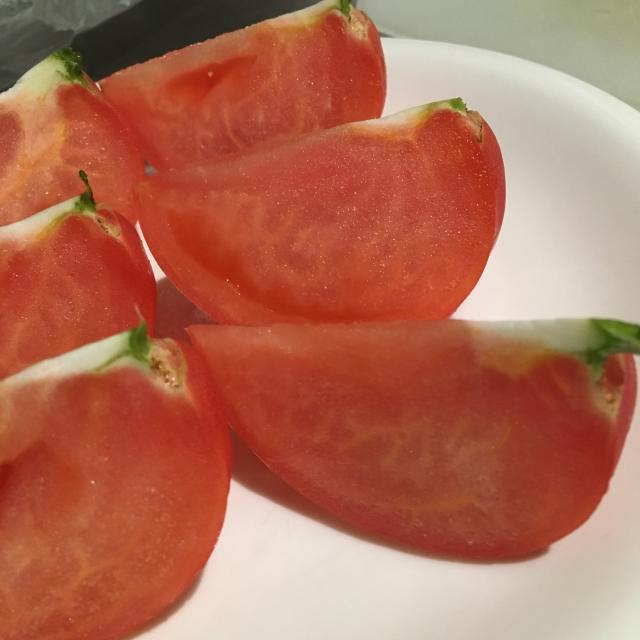Tomato: (177, 304, 640, 570), (126, 95, 512, 337), (0, 330, 232, 638), (94, 3, 396, 163), (1, 172, 160, 343), (0, 42, 146, 202)
